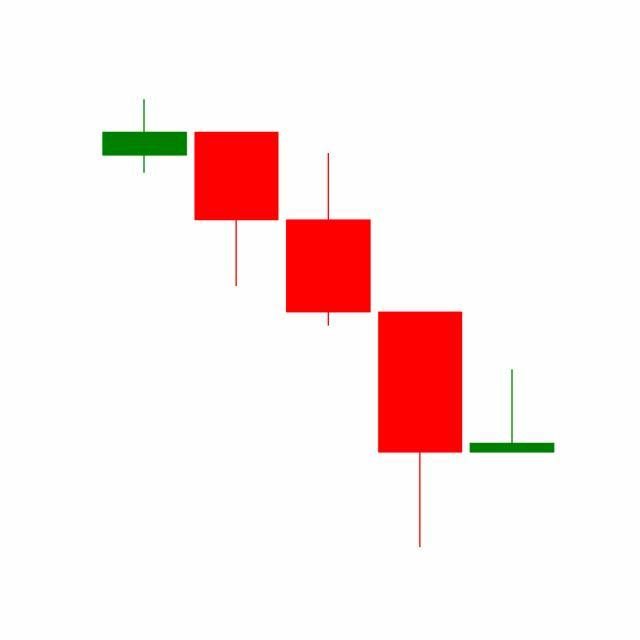Gravestone Doji: (466, 368, 559, 454)
